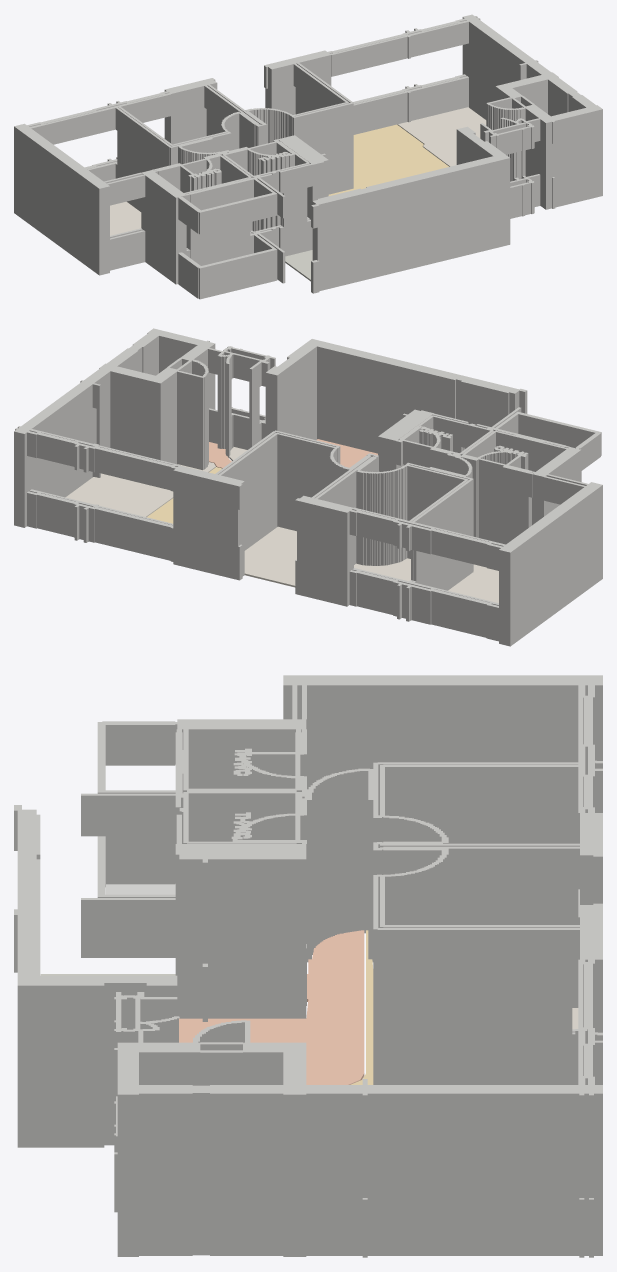
3 views of the same model, one above another, from view 1: azimuth 30°, elevation 25°; view 2: azimuth 150°, elevation 25°; view 3: azimuth 270°, elevation 25° (orthographic). The views are drawn at different scales.
Visible parts, largest first — view 1: walls, room:living:0, room:other:1, room:other:6, room:yard:4; view 2: walls, room:other:1, room:other:8, room:other:6, room:kitchen:5, room:other:7, room:living:0; view 3: walls, room:kitchen:5, room:living:0, room:ledge:3.
Part boxes in pixels (x1=…): walls: x1=14, y1=14, x2=602, y2=299; room:living:0: x1=328, y1=124, x2=448, y2=195; room:other:1: x1=397, y1=107, x2=486, y2=166; room:other:6: x1=110, y1=201, x2=141, y2=235; room:yard:4: x1=285, y1=250, x2=312, y2=281; walls: x1=14, y1=328, x2=602, y2=646; room:other:1: x1=65, y1=462, x2=215, y2=517; room:other:8: x1=244, y1=526, x2=296, y2=587; room:other:6: x1=448, y1=564, x2=498, y2=602; room:kitchen:5: x1=209, y1=439, x2=377, y2=468; room:other:7: x1=354, y1=558, x2=410, y2=581; room:living:0: x1=147, y1=467, x2=221, y2=523; walls: x1=14, y1=675, x2=602, y2=1257; room:kitchen:5: x1=179, y1=930, x2=364, y2=1084; room:living:0: x1=350, y1=930, x2=373, y2=1084; room:ledge:3: x1=106, y1=884, x2=175, y2=894.
Bounding box in the file's own units: 15.54 × 2.8 × 9.21.
